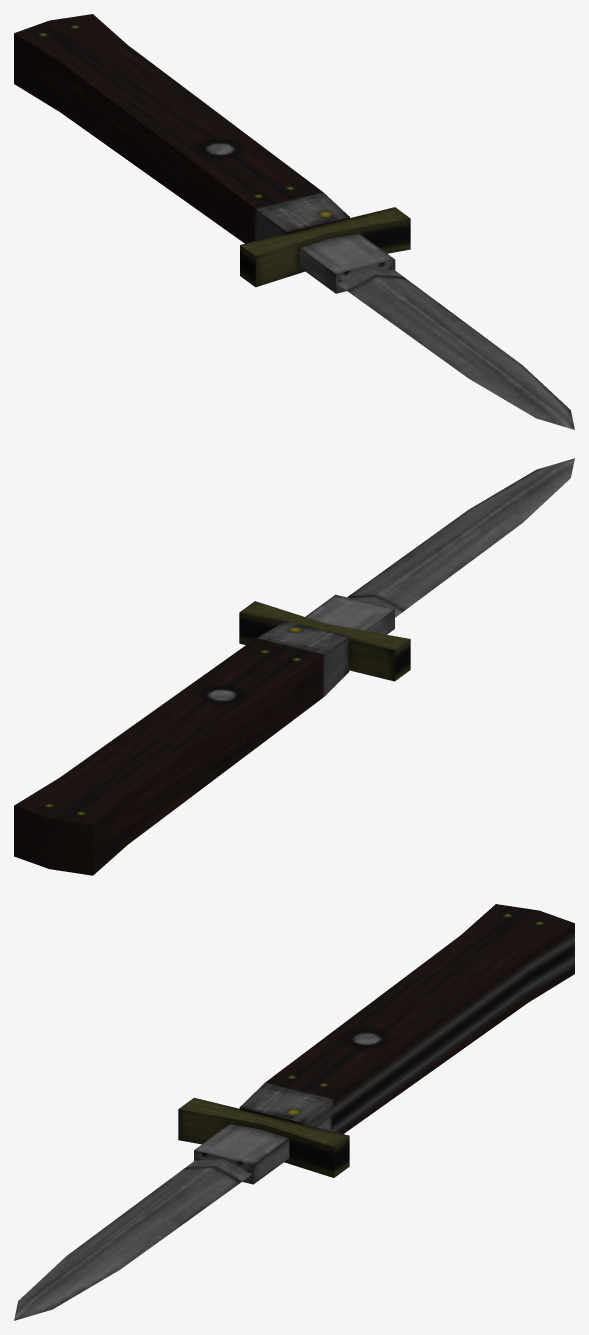
The model's file is switchknife.FBX.
3 views of the same model, one above another, from view 1: azimuth 30°, elevation 25°; view 2: azimuth 150°, elevation 25°; view 3: azimuth 330°, elevation 25° (orthographic).
Parts seen in each view (by area): view 1: Box001; view 2: Box001; view 3: Box001.
Boxes of the visible parts, box(x1,y1,x2,y2) form: Box001: box(14, 14, 574, 429); Box001: box(14, 458, 574, 875); Box001: box(14, 904, 574, 1320).
Size of the model in its own units: 135 by 42.18 by 792.
